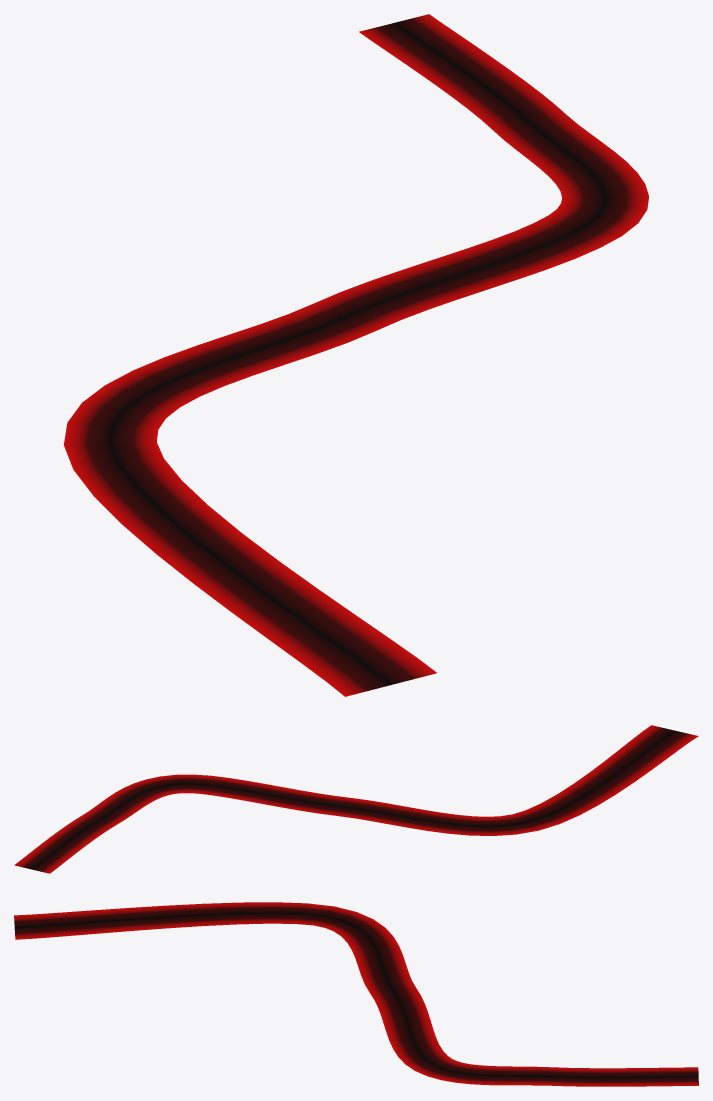
The model's file is TropicalForest_Entrance_Runoff.fbx.
The picture shows the model from 3 angles, top to bottom: view 1: azimuth 30°, elevation 25°; view 2: azimuth 150°, elevation 25°; view 3: azimuth 270°, elevation 25°; orthographic projection. The views are drawn at different scales.
Parts seen in each view (by area): view 1: TropicalForest_Entrance_Runoff; view 2: TropicalForest_Entrance_Runoff; view 3: TropicalForest_Entrance_Runoff.
Part boxes in pixels (<box>): TropicalForest_Entrance_Runoff: <box>64,14,649,696</box>; TropicalForest_Entrance_Runoff: <box>14,725,698,873</box>; TropicalForest_Entrance_Runoff: <box>14,902,698,1086</box>.
Bounding box in the file's own units: 7.92 × 0.355 × 11.89.
